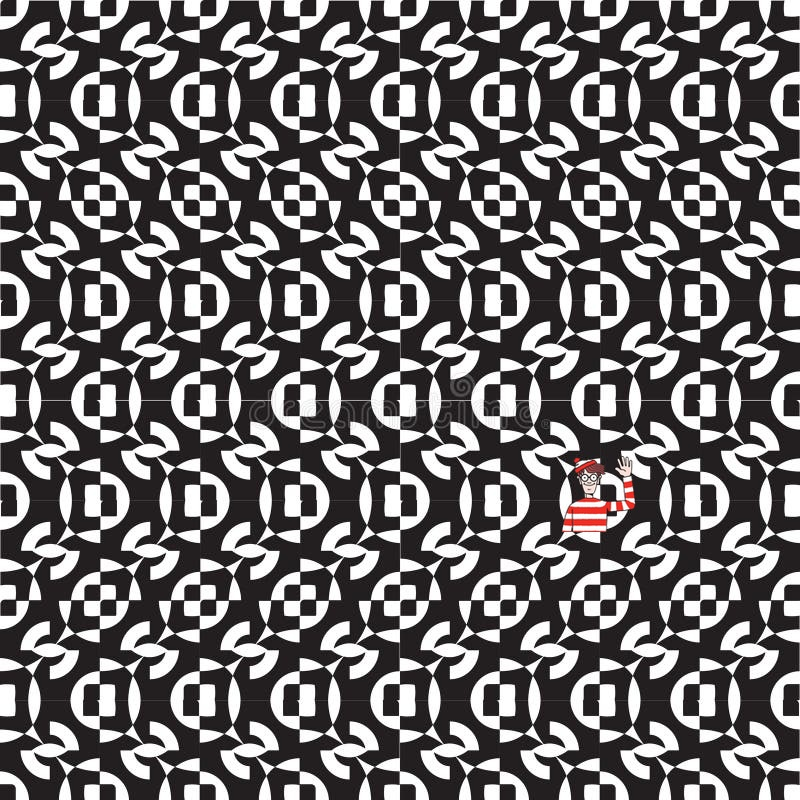waldo: (561, 456, 636, 532)
